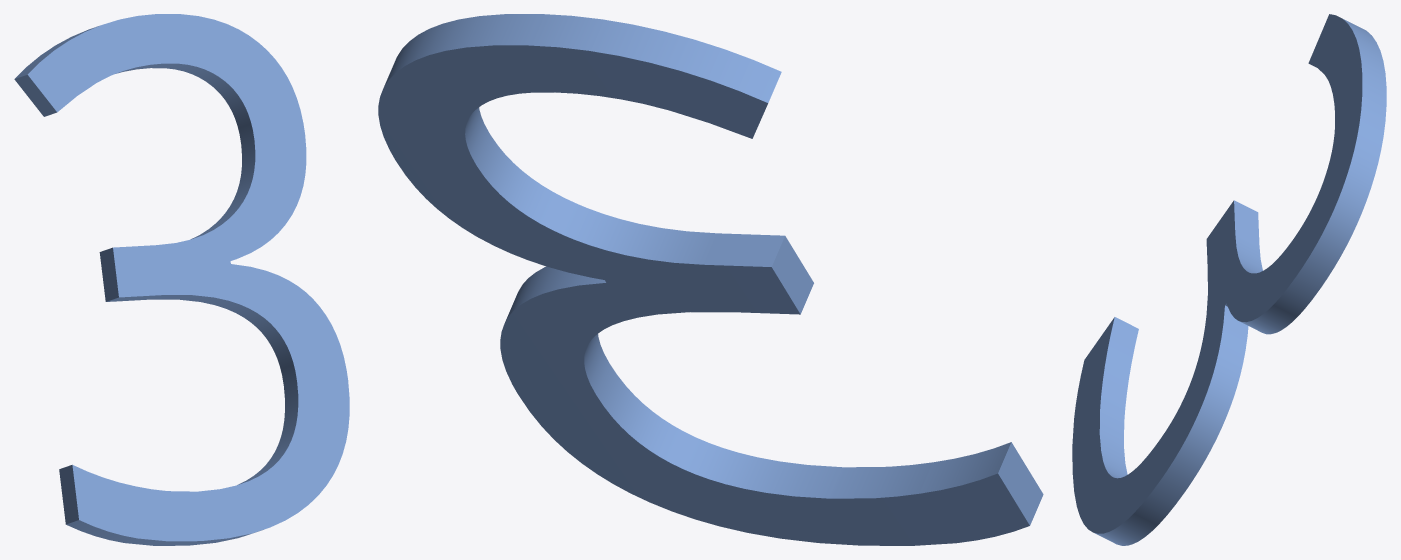
The model's file is New_Number_3.gltf.
3 views of the same model, side by side, from view 1: azimuth 30°, elevation 25°; view 2: azimuth 150°, elevation 25°; view 3: azimuth 270°, elevation 25° (orthographic). The views are drawn at different scales.
Parts seen in each view (by area): view 1: Part 75; view 2: Part 75; view 3: Part 75.
Boxes of the visible parts, x1,y1,x2,y2 form: Part 75: [14, 14, 349, 545]; Part 75: [378, 14, 1043, 545]; Part 75: [1072, 14, 1386, 545].
Size of the model in its own units: 0.00368 by 0.00464 by 0.00281.
